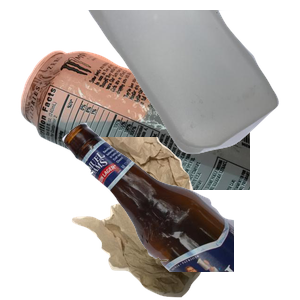glass: (60, 120, 300, 300)
metal: (18, 48, 258, 228)
plastic: (84, 10, 300, 157)
trash: (66, 137, 263, 300)
